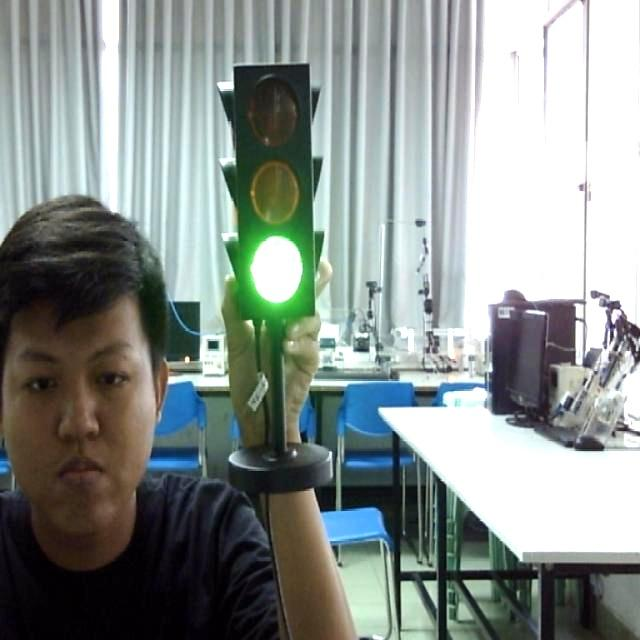Green: (222, 59, 334, 322)
